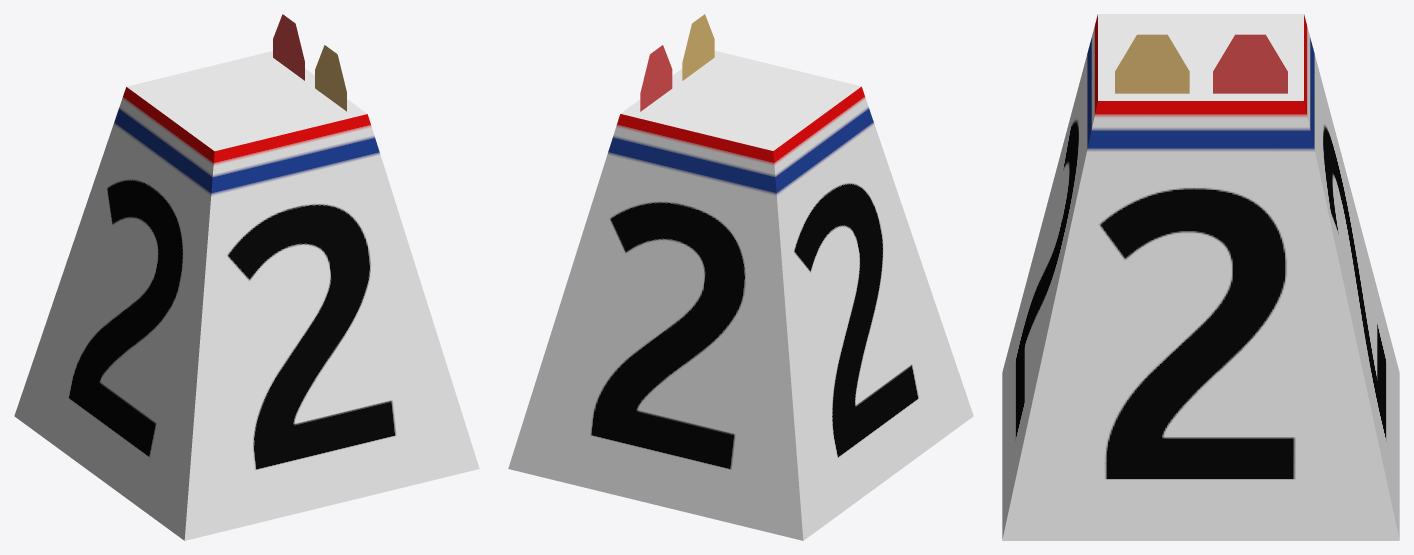
The model's file is Marker_Line2.FBX.
The picture shows the model from 3 angles, left to right: view 1: azimuth 30°, elevation 25°; view 2: azimuth 150°, elevation 25°; view 3: azimuth 270°, elevation 25°; orthographic projection. The views are drawn at different scales.
Parts seen in each view (by area): view 1: Marker_Line2; view 2: Marker_Line2; view 3: Marker_Line2.
Part boxes in pixels (x1=…): Marker_Line2: x1=14, y1=14, x2=479, y2=540; Marker_Line2: x1=508, y1=14, x2=973, y2=540; Marker_Line2: x1=1002, y1=14, x2=1399, y2=540.
Size of the model in its own units: 6.76 by 8.6 by 6.76.
